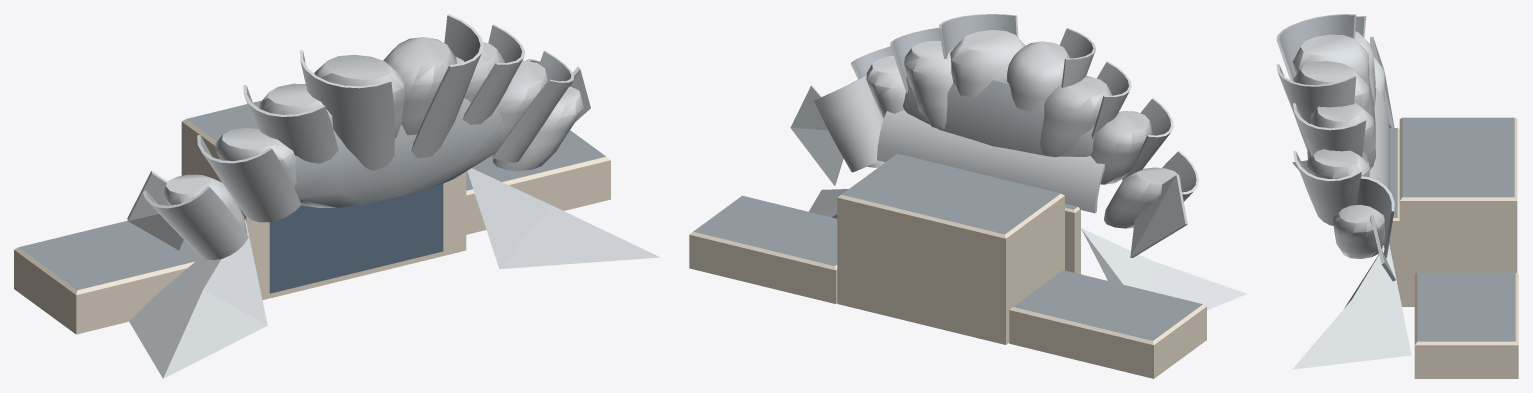
Rendered from chi-pritzker-pavilion.glb.
3 views of the same model, side by side, from view 1: azimuth 30°, elevation 25°; view 2: azimuth 150°, elevation 25°; view 3: azimuth 270°, elevation 25° (orthographic). The views are drawn at different scales.
Parts seen in each view (by area): view 1: Jay Pritzker Pavilion; view 2: Jay Pritzker Pavilion; view 3: Jay Pritzker Pavilion.
Boxes of the visible parts, x1,y1,x2,y2 form: Jay Pritzker Pavilion: [14, 14, 660, 378]; Jay Pritzker Pavilion: [689, 14, 1247, 378]; Jay Pritzker Pavilion: [1276, 14, 1518, 378].
Bounding box in the file's own units: 93.2 × 42.68 × 42.41.
